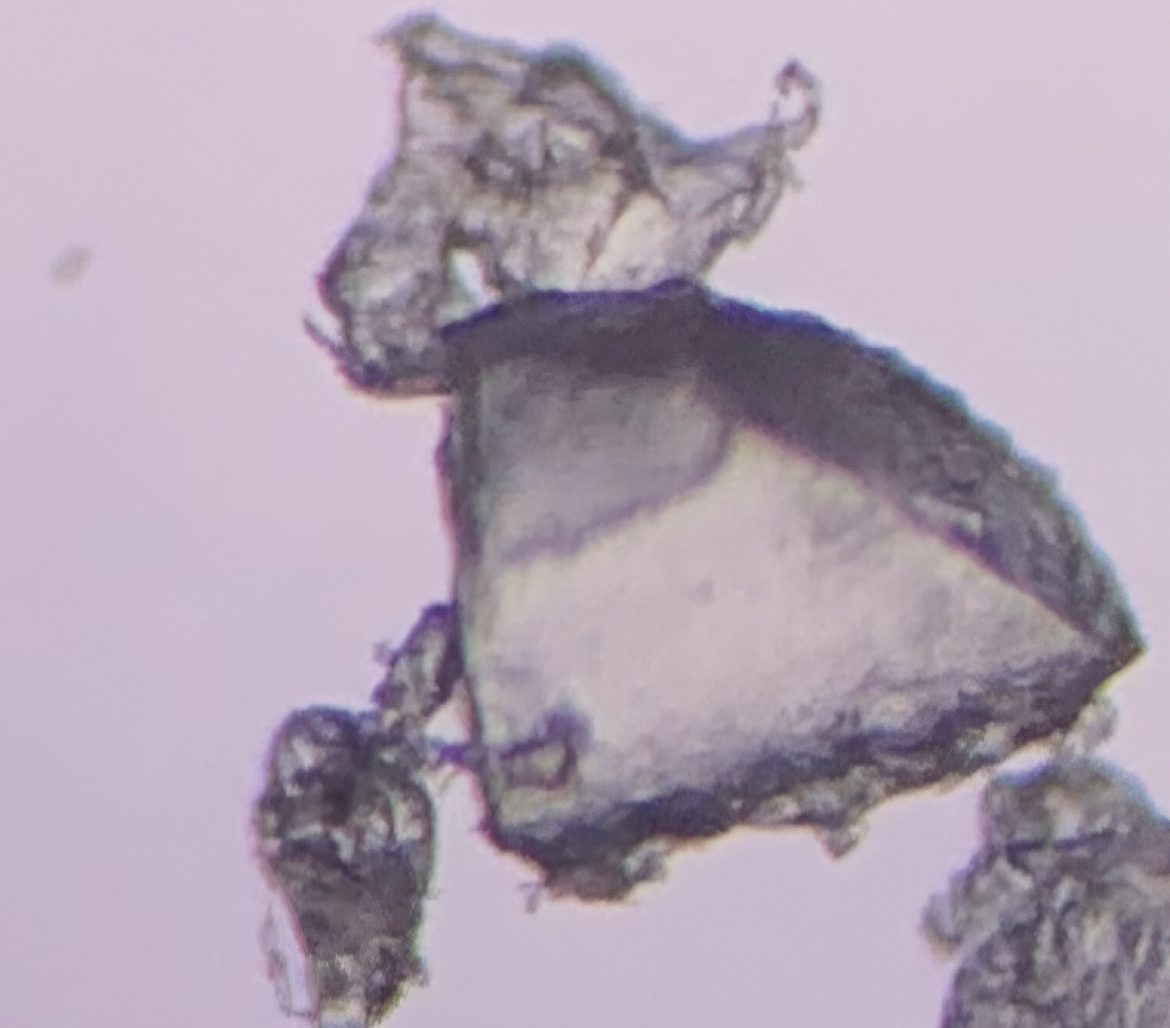microplastic: (245, 11, 1170, 1028), (915, 756, 1170, 1028)
